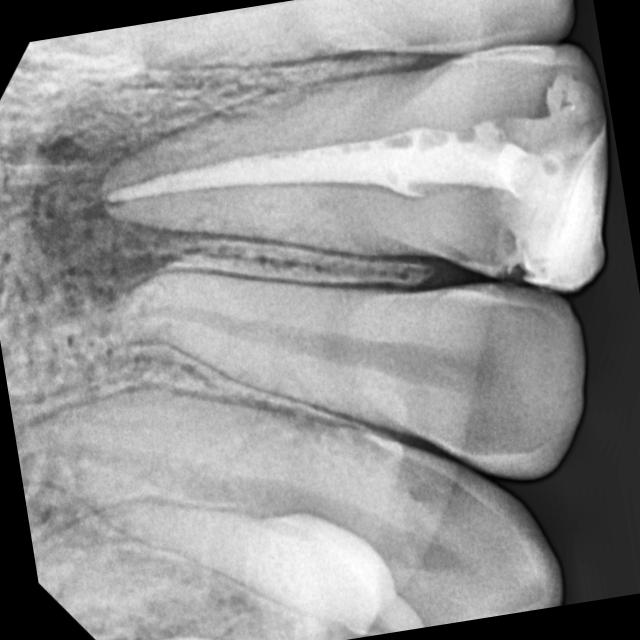RCT: (80, 51, 573, 278)
Restoration: (519, 96, 613, 302)
